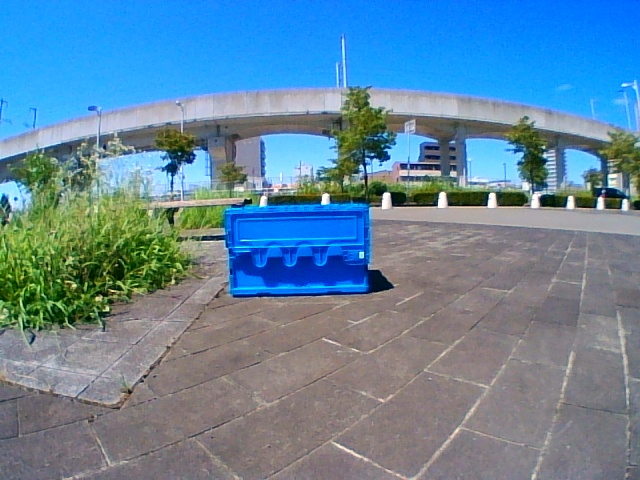blue_box: (230, 209, 369, 291)
